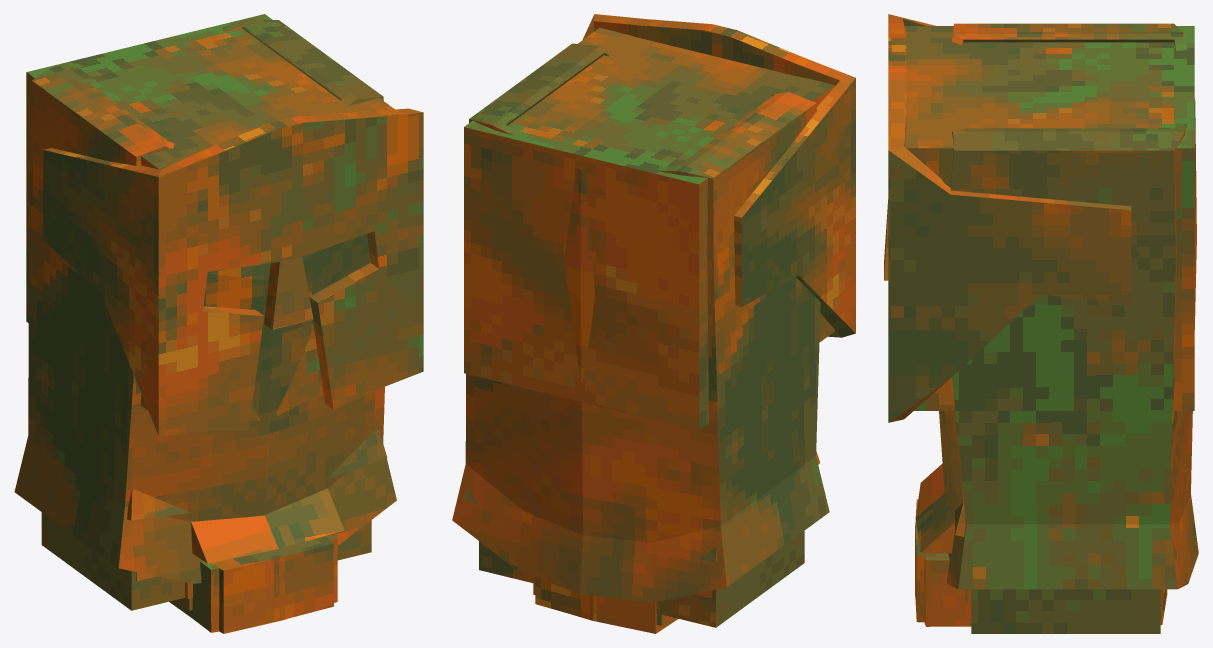
Rendered from rusted copper armor.glb.
3 renders of one model, left to right at view 1: azimuth 30°, elevation 25°; view 2: azimuth 150°, elevation 25°; view 3: azimuth 270°, elevation 25°, orthographic. The views are drawn at different scales.
Parts seen in each view (by area): view 1: rusted copper helmet.001, rusted copper chestplate.001, rusted copper boot R.001, rusted copper leggings.001, rusted copper greave R.001, rusted copper boot L.001, rusted copper greave L.001, rusted copper chestplate L.001, rusted copper chestplate R.001; view 2: rusted copper helmet.001, rusted copper chestplate.001, rusted copper leggings.001, rusted copper boot L.001, rusted copper boot R.001; view 3: rusted copper chestplate.001, rusted copper helmet.001, rusted copper leggings.001, rusted copper boot L.001, rusted copper greave R.001, rusted copper boot R.001, rusted copper greave L.001, rusted copper chestplate L.001.
Boxes of the visible parts, left/top/right/bottom form: rusted copper helmet.001: left=26, top=14, right=423, bottom=435; rusted copper chestplate.001: left=14, top=19, right=396, bottom=583; rusted copper boot R.001: left=169, top=536, right=333, bottom=632; rusted copper leggings.001: left=41, top=512, right=371, bottom=610; rusted copper greave R.001: left=257, top=328, right=344, bottom=548; rusted copper boot L.001: left=210, top=534, right=337, bottom=633; rusted copper greave L.001: left=191, top=404, right=278, bottom=563; rusted copper chestplate L.001: left=326, top=417, right=387, bottom=531; rusted copper chestplate R.001: left=127, top=484, right=190, bottom=581; rusted copper helmet.001: left=464, top=14, right=855, bottom=430; rusted copper chestplate.001: left=452, top=43, right=829, bottom=602; rusted copper leggings.001: left=479, top=531, right=804, bottom=627; rusted copper boot L.001: left=579, top=595, right=678, bottom=633; rusted copper boot R.001: left=535, top=577, right=596, bottom=621; rusted copper chestplate.001: left=939, top=23, right=1198, bottom=589; rusted copper helmet.001: left=884, top=14, right=1194, bottom=422; rusted copper leggings.001: left=971, top=589, right=1160, bottom=633; rusted copper boot L.001: left=915, top=499, right=1167, bottom=626; rusted copper greave R.001: left=915, top=493, right=954, bottom=553; rusted copper boot R.001: left=915, top=522, right=1166, bottom=624; rusted copper greave L.001: left=915, top=463, right=944, bottom=517; rusted copper chestplate L.001: left=955, top=494, right=1176, bottom=605.
Size of the model in its own units: 0.3774 by 0.6543 by 0.351.
1 material, 1 textured.
